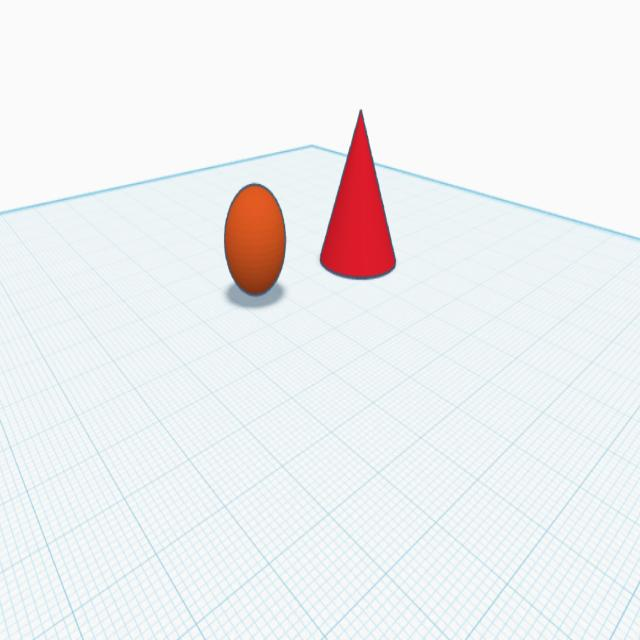cone: (318, 100, 398, 284)
sphere: (222, 176, 287, 300)
